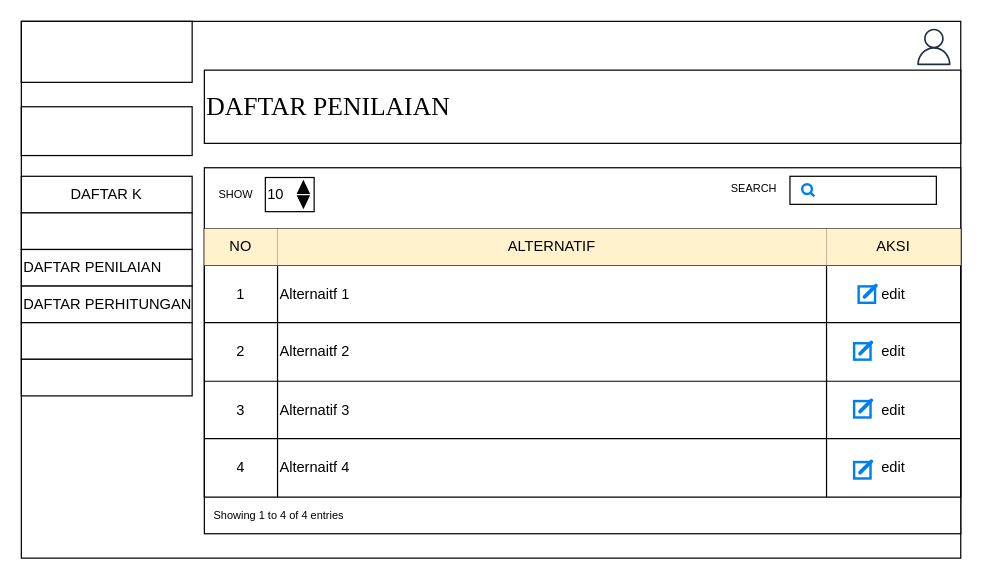
Some shapes in this 982 by 580 pixel diagram are drawn without their labels. The shapes that lost their labels are listed below. From the top down, each one's box as (x1, y1, x2, y2) in pixels, then its label:
(20, 20, 192, 82): SISTEM PENDUKUNG KEPUTUSAN
(20, 106, 192, 156): DASHBOARD
(314, 182, 375, 206): ENTRIES
